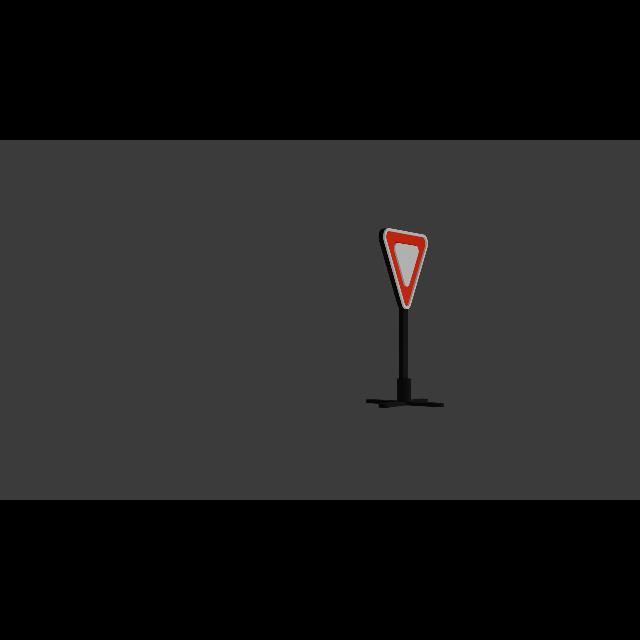sign_yield: (381, 228, 430, 310)
